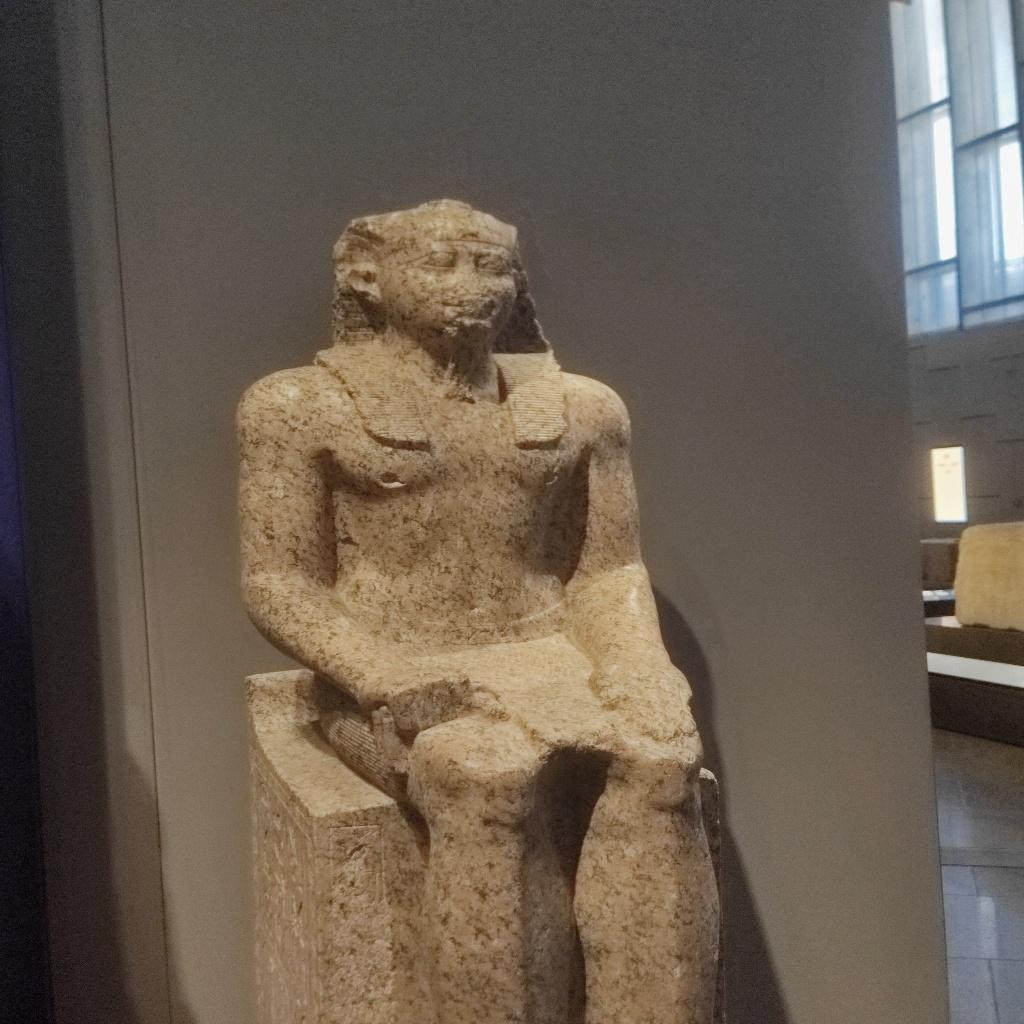Statue of Amenmhat I: (230, 195, 730, 1021)
